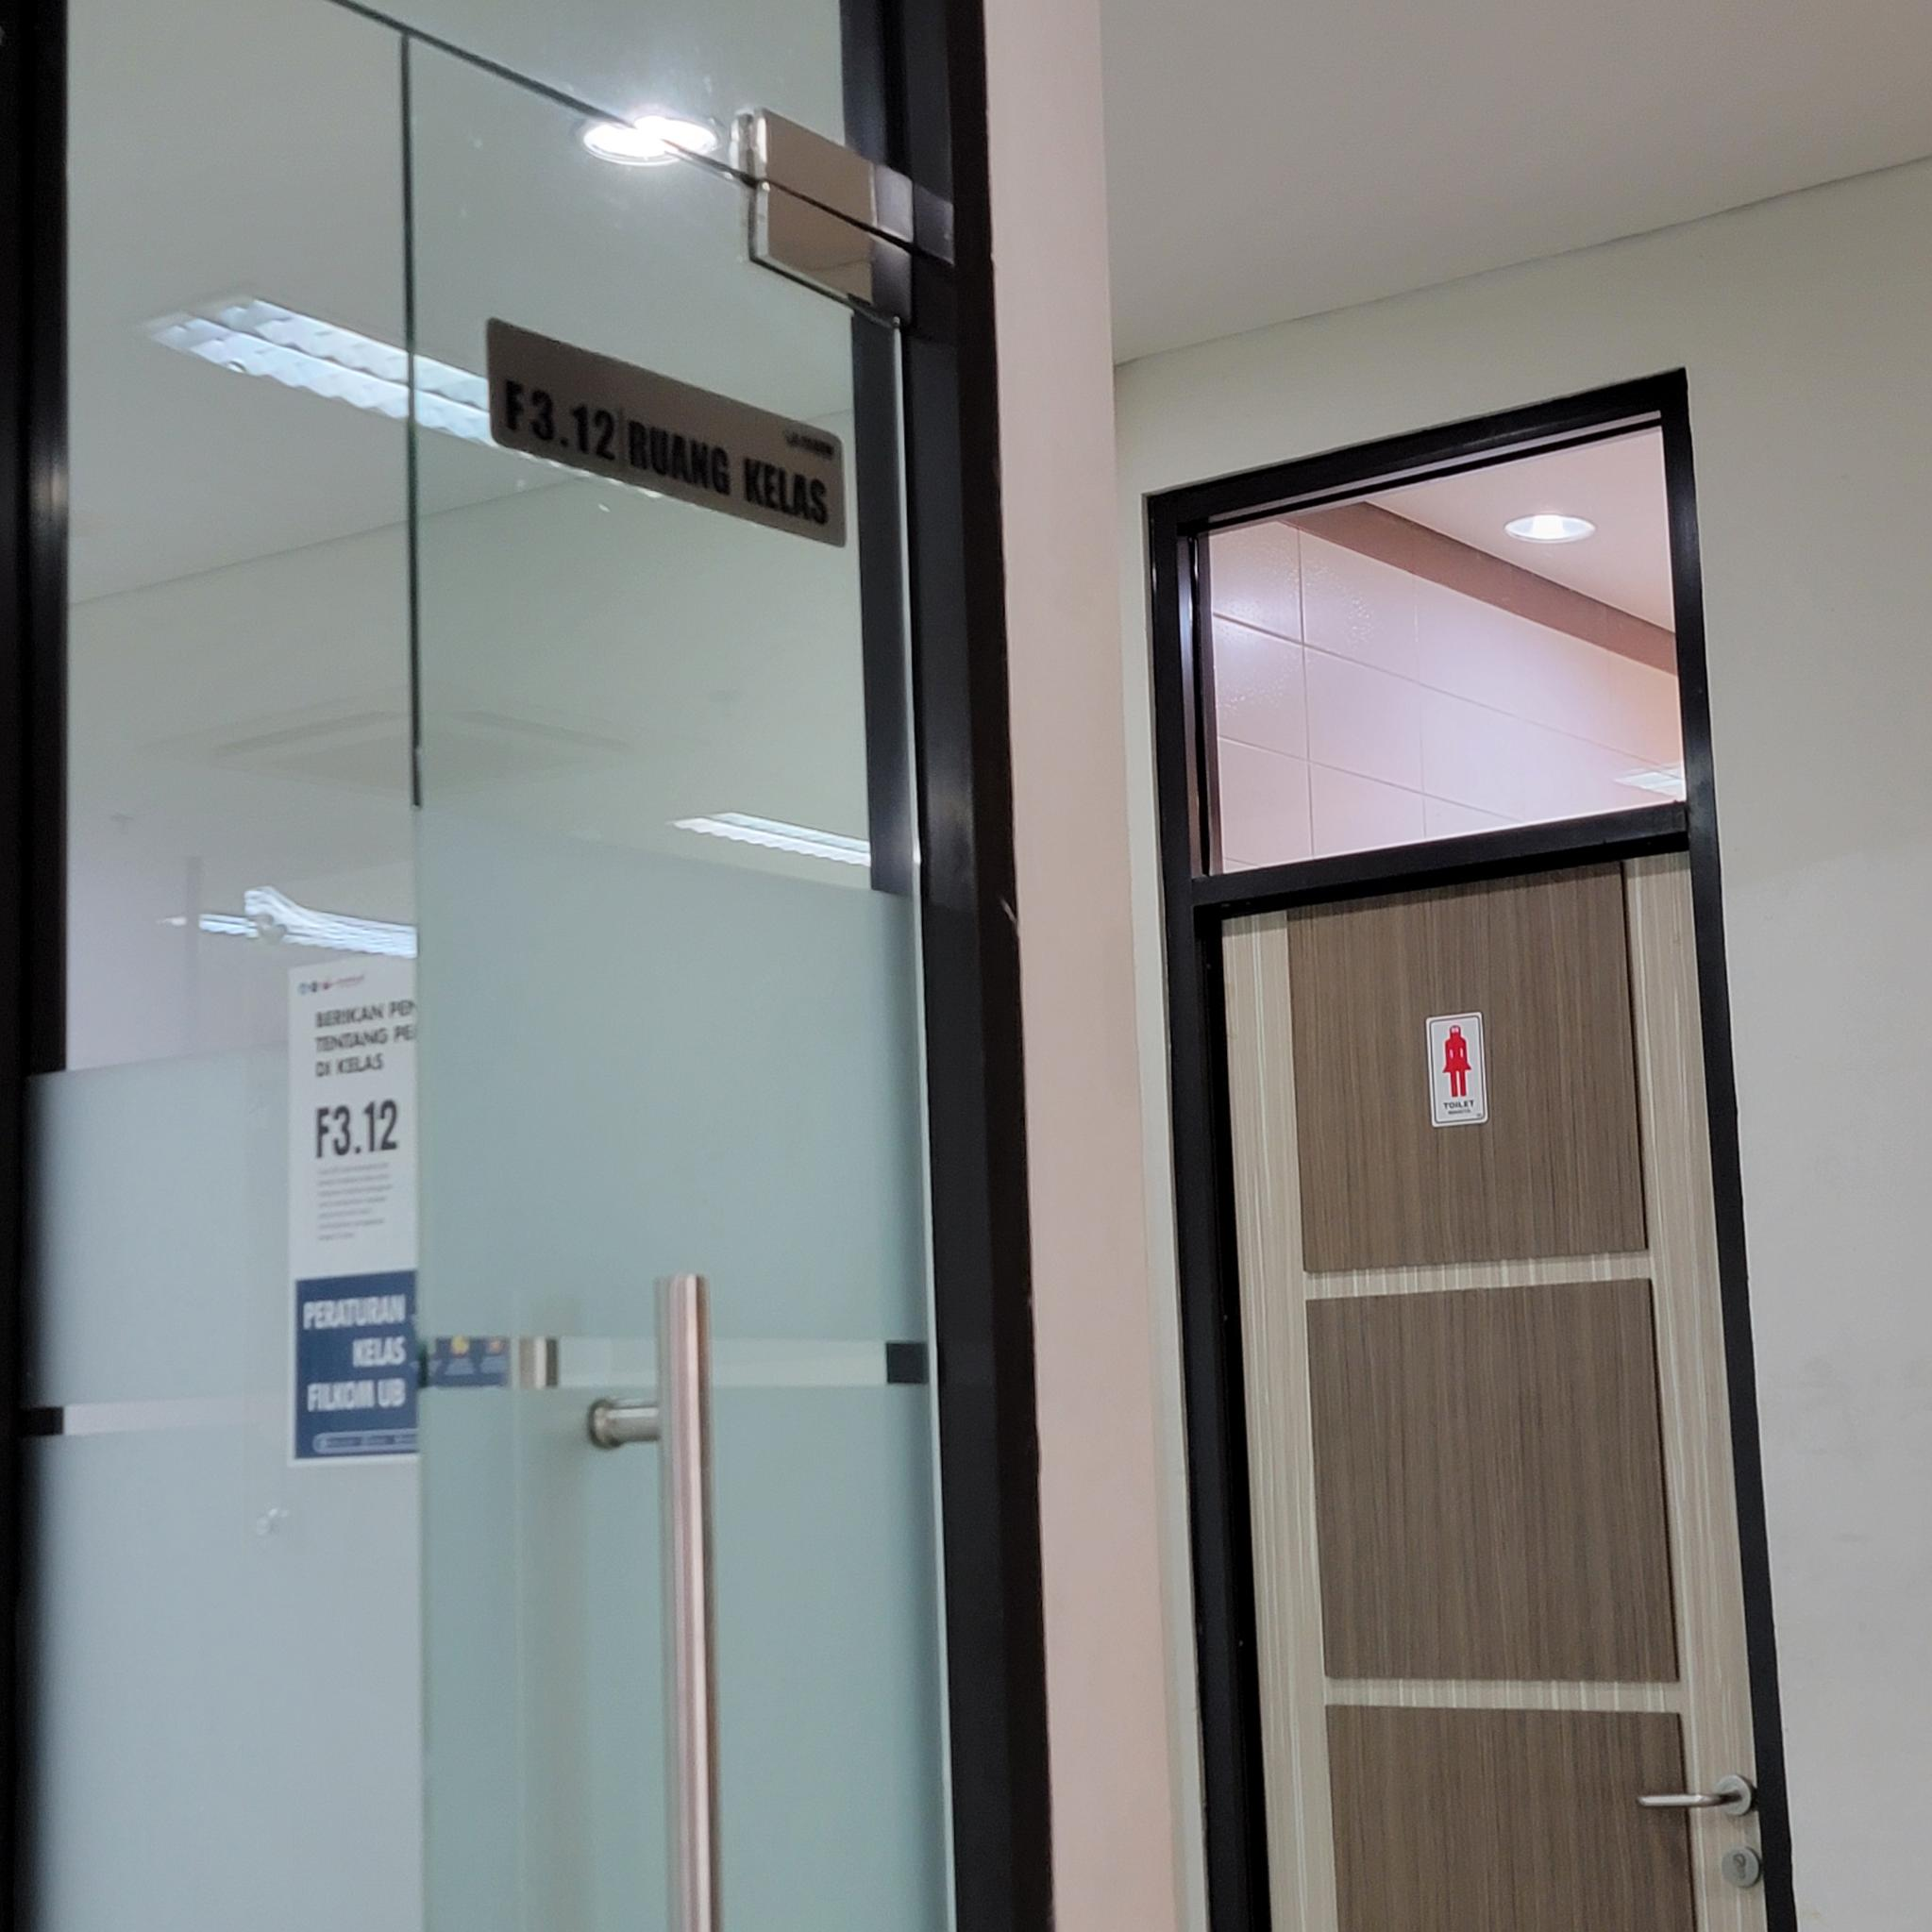plate: (487, 315, 847, 554)
